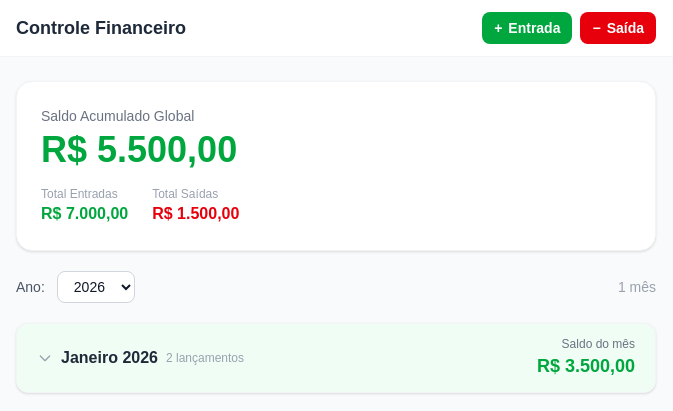
it: Dashboard — com transações › ao trocar o ano, a tabela exibe os meses do ano selecionado
This screenshot has width=673, height=411.
Select "2025" in the dropdown labelled "Ano:" at {"x": 96, "y": 287}, box [57,271,135,303]
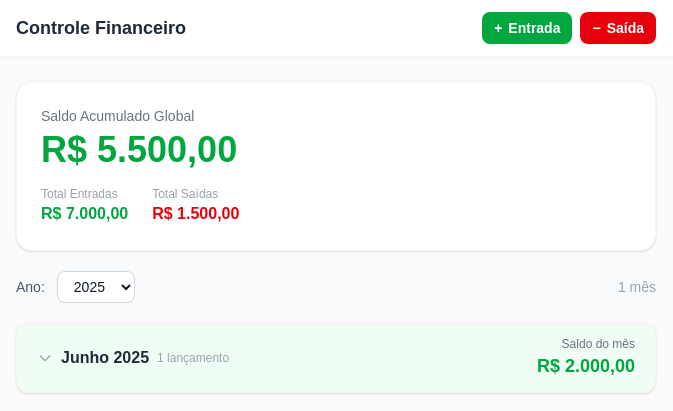
Expected: the heading "Junho 2025" is shown, [61,346,149,370]
Expected: the button "Janeiro" is gone
